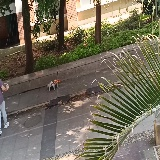fire: (53, 79, 60, 84)
